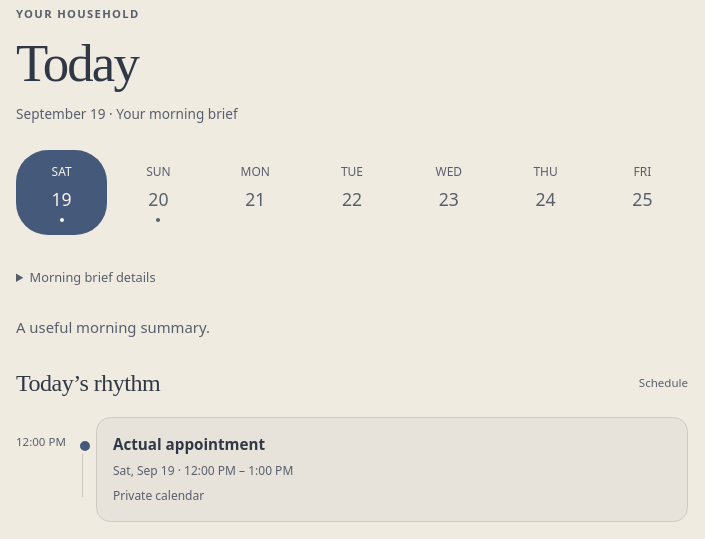
Scenario: keeps calendar commitments visible, deduplicates their review rows, and puts dated todos on the selected day
Expected: the number of headings "Actual appointment" is 1, [113,434,265,454]
Expected: the text "Return permission form" is not shown
Click the button with aria-label "Sunday, September 20".
click(158, 193)  # box [113,150,204,235]
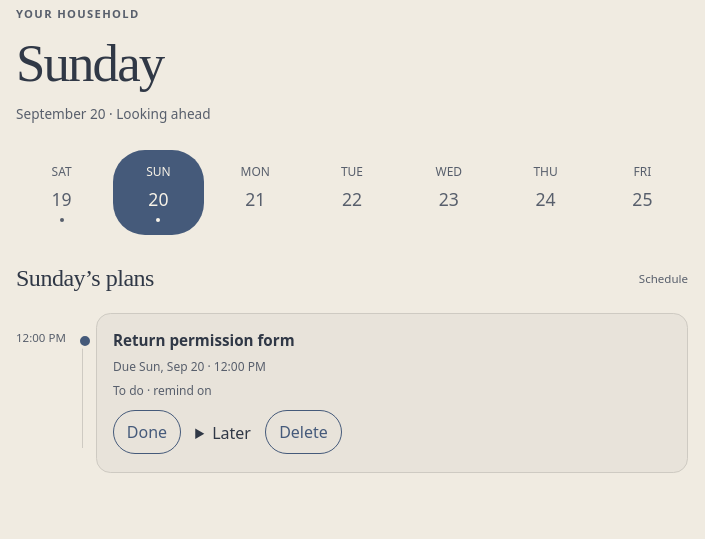
Expected: the link "Return permission form" is shown, [113,330,295,350]
Expected: the heading "Actual appointment" is gone
Expected: the text "A useful morning summary." is gone
